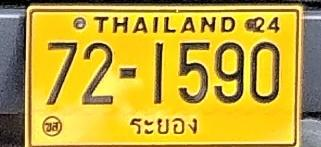0: (250, 41, 280, 103)
1: (153, 42, 163, 104)
2: (82, 42, 113, 104)
5: (178, 41, 210, 104)
7: (46, 41, 77, 105)
9: (214, 42, 244, 104)
RYG: (125, 112, 204, 139)
